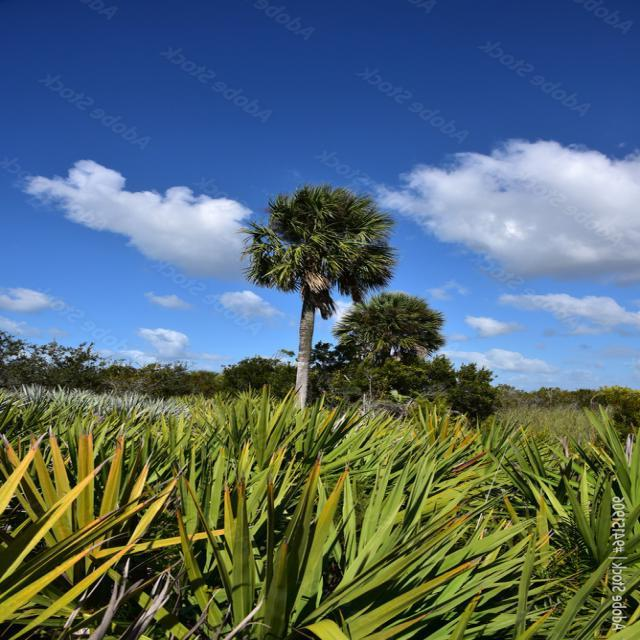tree: (246, 184, 394, 416), (335, 293, 443, 371)
